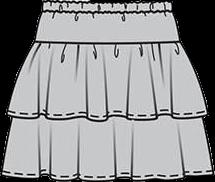Hemline: (6, 112, 207, 121), (0, 173, 213, 181)
Waistline: (34, 39, 179, 44), (42, 9, 172, 13), (42, 0, 170, 3)
